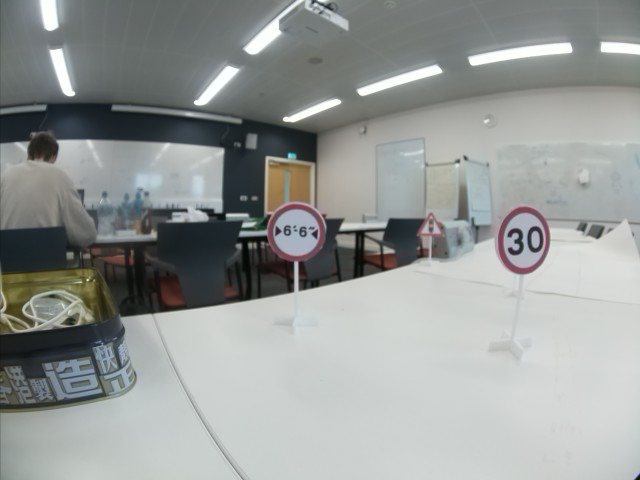30mph: (494, 202, 551, 275)
6ft6: (266, 201, 326, 263)
Traffic lights: (416, 213, 444, 238)
